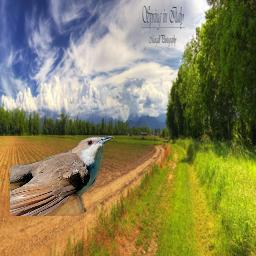Cuckoo: (10, 136, 114, 216)
